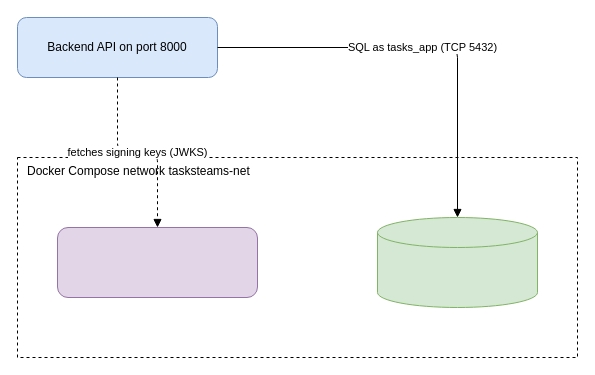
Some shapes in this 595 by 375 pixel diagram are drawn without their labels. Here are the shapes that lost their labels. From the top down, the centre of each, then its label:
the point at 157,262: Keycloak 26.8.2, published on 127.0.0.1:8180
the point at 457,262: PostgreSQL 17, published on 127.0.0.1:5432
